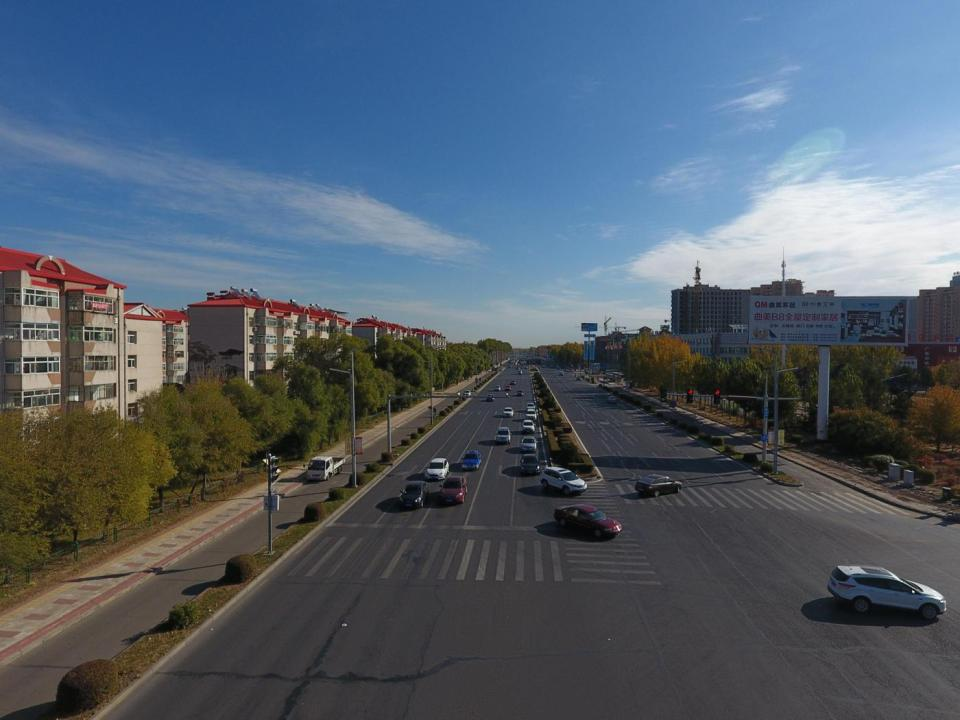bus: (517, 361, 520, 365)
car: (827, 562, 947, 624), (553, 504, 622, 539), (539, 466, 588, 493), (635, 474, 682, 498), (399, 480, 429, 510), (440, 476, 467, 504), (424, 457, 449, 480), (462, 449, 481, 470), (520, 454, 539, 474), (521, 436, 538, 452), (496, 427, 511, 442), (523, 419, 534, 434), (502, 407, 514, 417), (526, 409, 536, 420), (526, 403, 535, 412), (486, 394, 495, 401), (607, 396, 616, 403), (463, 390, 472, 396), (504, 385, 511, 391), (516, 390, 524, 395), (510, 379, 516, 385), (494, 385, 500, 391), (576, 376, 581, 380), (559, 372, 564, 375), (516, 367, 519, 369), (508, 365, 511, 367), (542, 365, 545, 367), (525, 366, 527, 368), (517, 364, 519, 366), (557, 368, 561, 369)
truck: (308, 456, 345, 482), (584, 368, 598, 374), (590, 369, 602, 374), (520, 362, 524, 366)
van: (518, 370, 522, 374), (556, 365, 560, 367), (510, 364, 512, 366)
